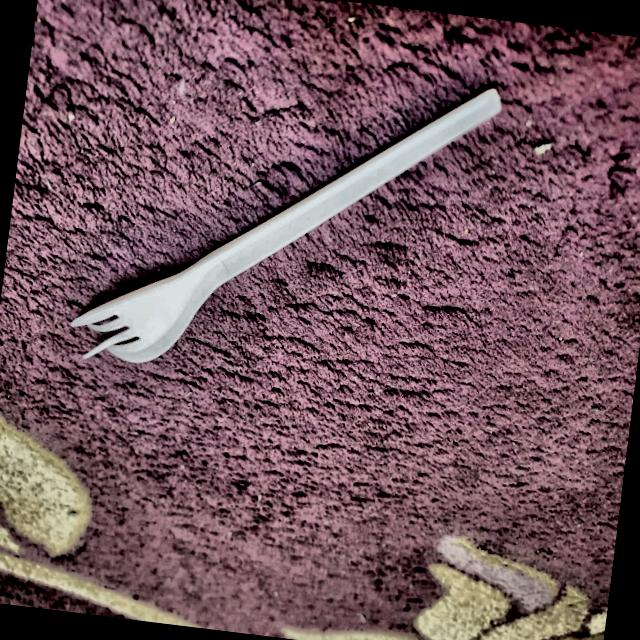plastic utensil: (64, 34, 514, 420)
